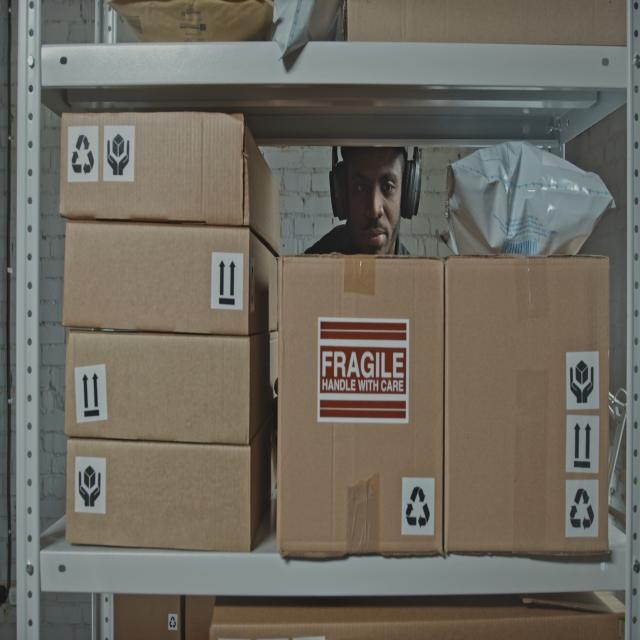counting-the-number-of-boxes: (278, 257, 442, 554), (447, 259, 609, 553), (53, 107, 275, 253), (58, 399, 275, 542), (55, 217, 274, 327), (58, 325, 274, 436)
